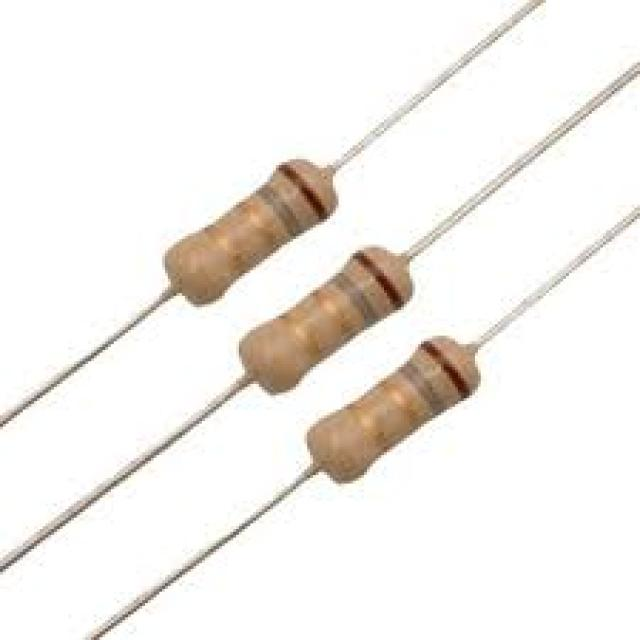Resistor: (305, 332, 481, 485), (160, 154, 338, 304), (238, 244, 413, 395)
